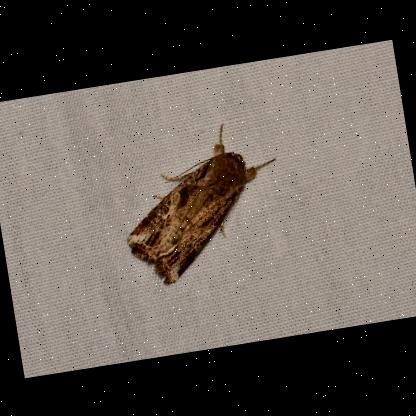Fall Armyworm Moth: (108, 112, 294, 292)
